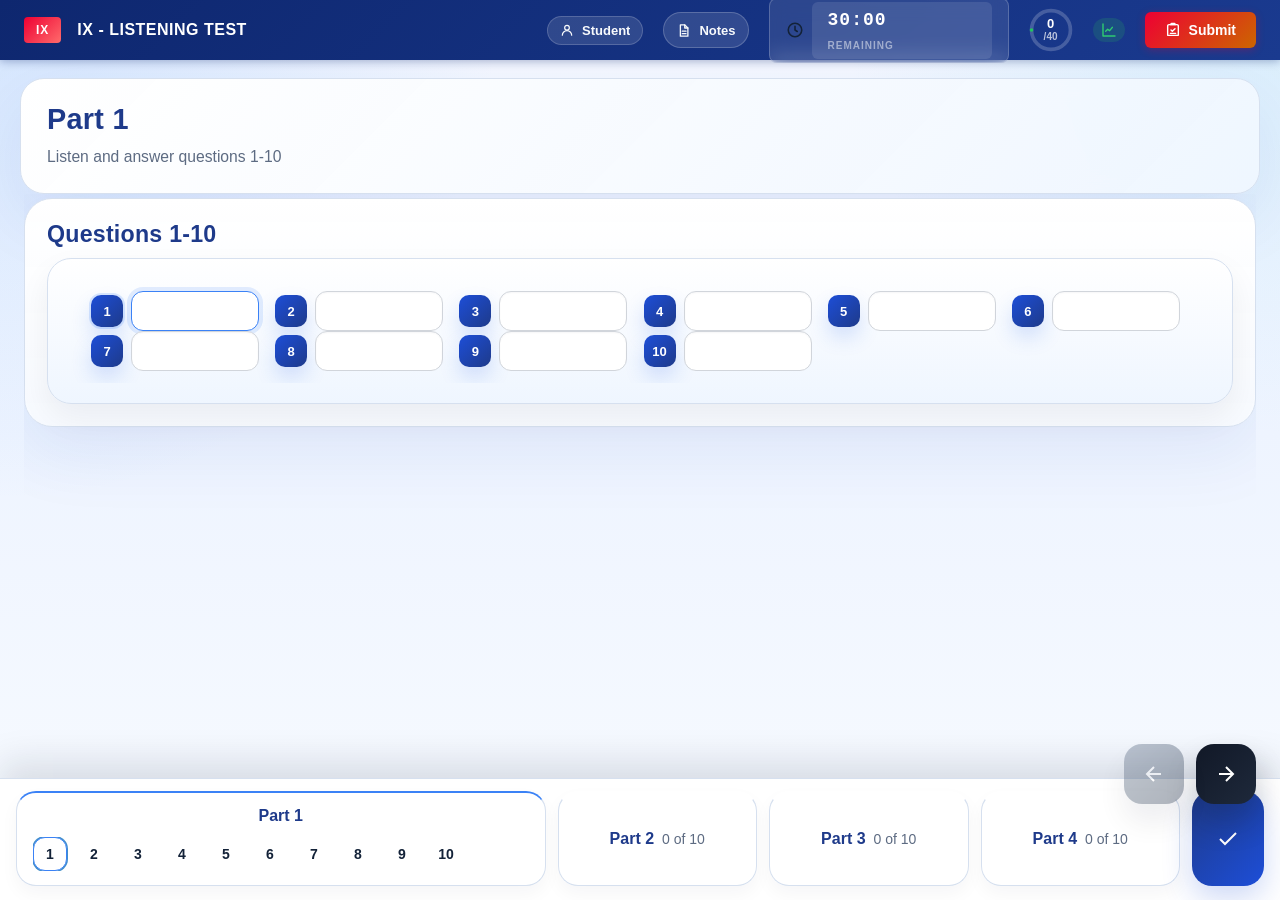
Test: Listening test numbering › ignores stale answer keys when building notes-completion navigator slots
Click the text "Part 4". click: [1055, 839]
box: [1033, 830, 1077, 848]
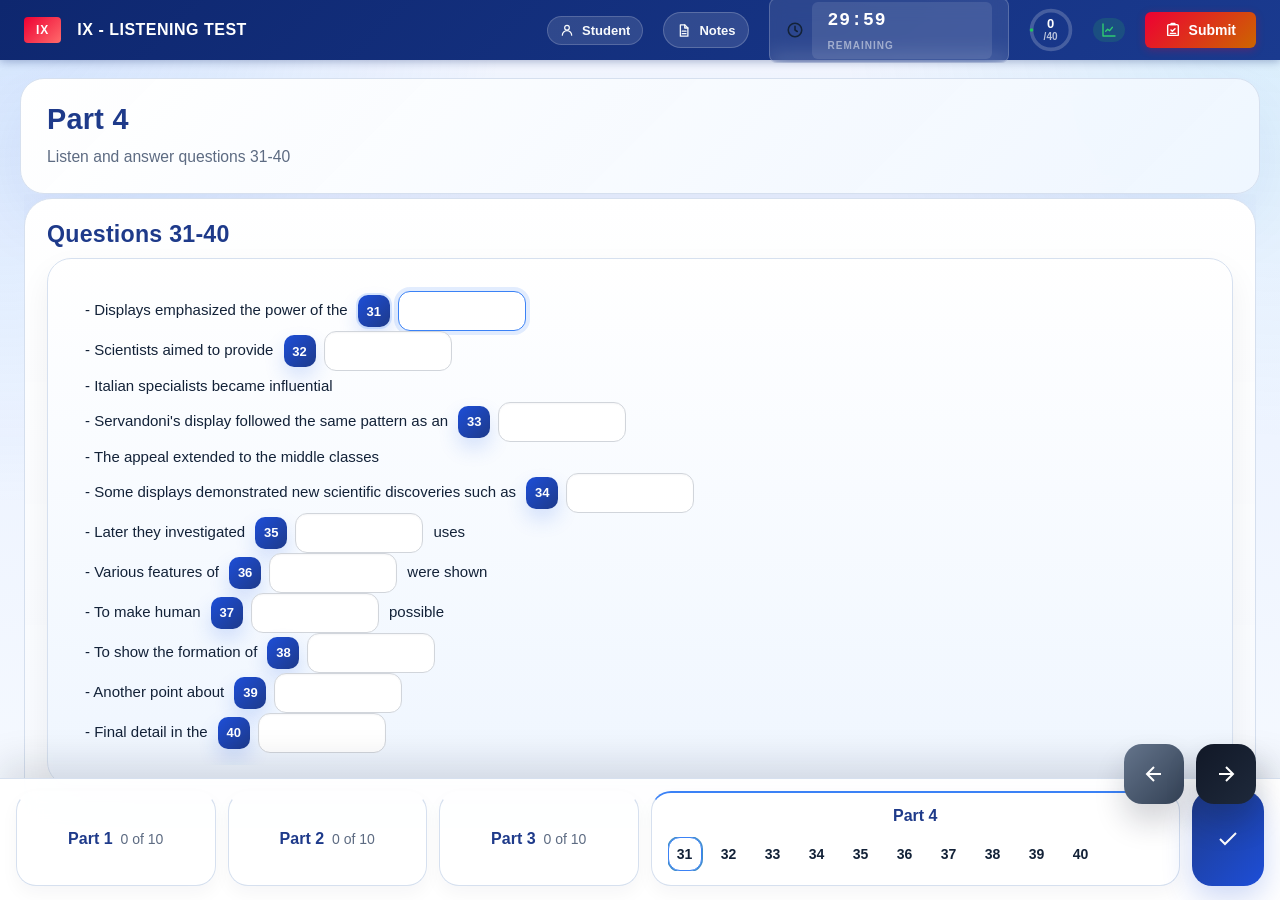
Check: the text "31" next to "- Displays emphasized the power of the" is shown, box [367, 304, 381, 319]
Check: the text "32" next to "- Scientists aimed to provide" is shown, box [292, 344, 307, 359]
Check: the text "33" below "- Scientists aimed to provide" is shown, box [467, 414, 482, 429]
